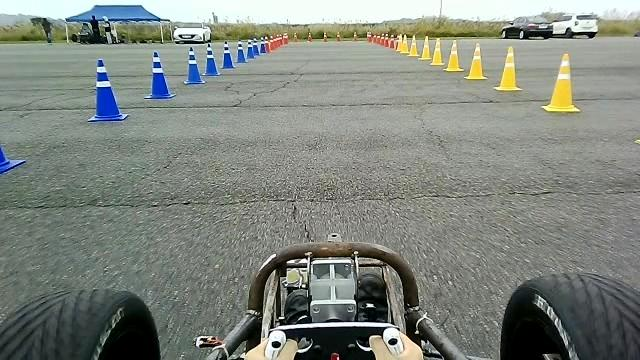blue cone: (87, 58, 129, 122), (144, 50, 176, 98), (183, 46, 206, 84), (201, 42, 220, 76), (219, 40, 235, 68), (234, 38, 247, 62)
yellow cone: (536, 53, 575, 112), (496, 44, 526, 90), (463, 42, 488, 79), (442, 38, 464, 70), (429, 37, 445, 65), (418, 34, 432, 59)
